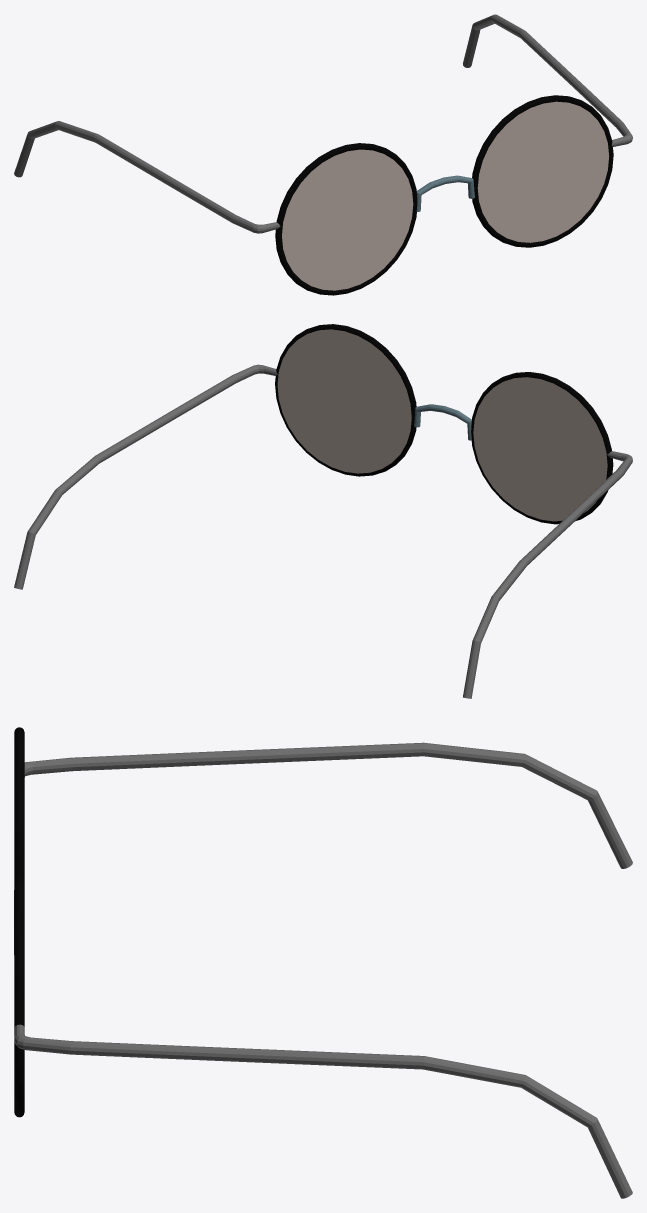
File: glassesRound.glb
3 views of the same model, one above another, from view 1: azimuth 30°, elevation 25°; view 2: azimuth 150°, elevation 25°; view 3: azimuth 270°, elevation 25° (orthographic). The views are drawn at different scales.
Visible parts, largest first — view 1: glassesRound; view 2: glassesRound; view 3: glassesRound.
Part boxes in pixels (left/top/right/bottom): glassesRound: left=14, top=14, right=632, bottom=295; glassesRound: left=14, top=324, right=632, bottom=698; glassesRound: left=14, top=727, right=632, bottom=1198.
Size of the model in its own units: 0.4663 by 0.1446 by 0.3633.
Materials: 2 (1 with a texture image).
